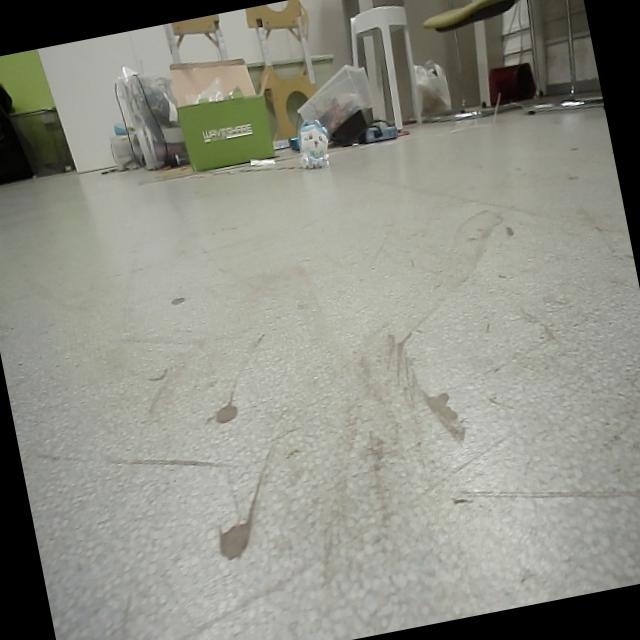xiaoba: (292, 113, 338, 175)
